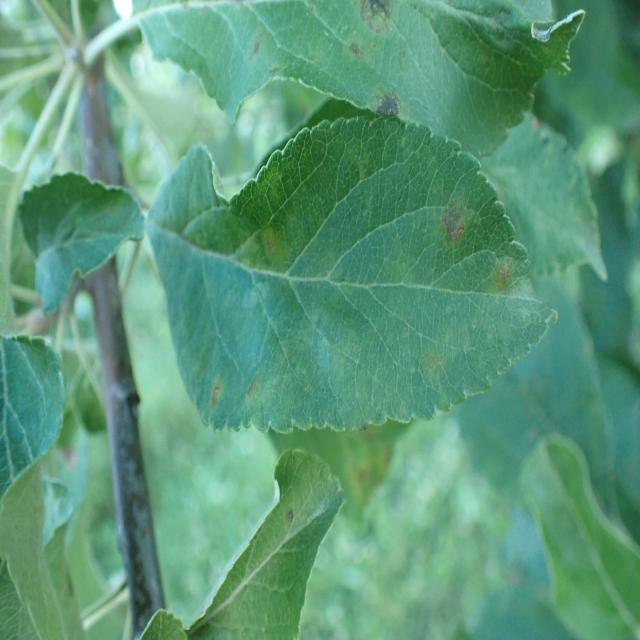scab: (197, 169, 530, 440), (310, 0, 568, 178)
